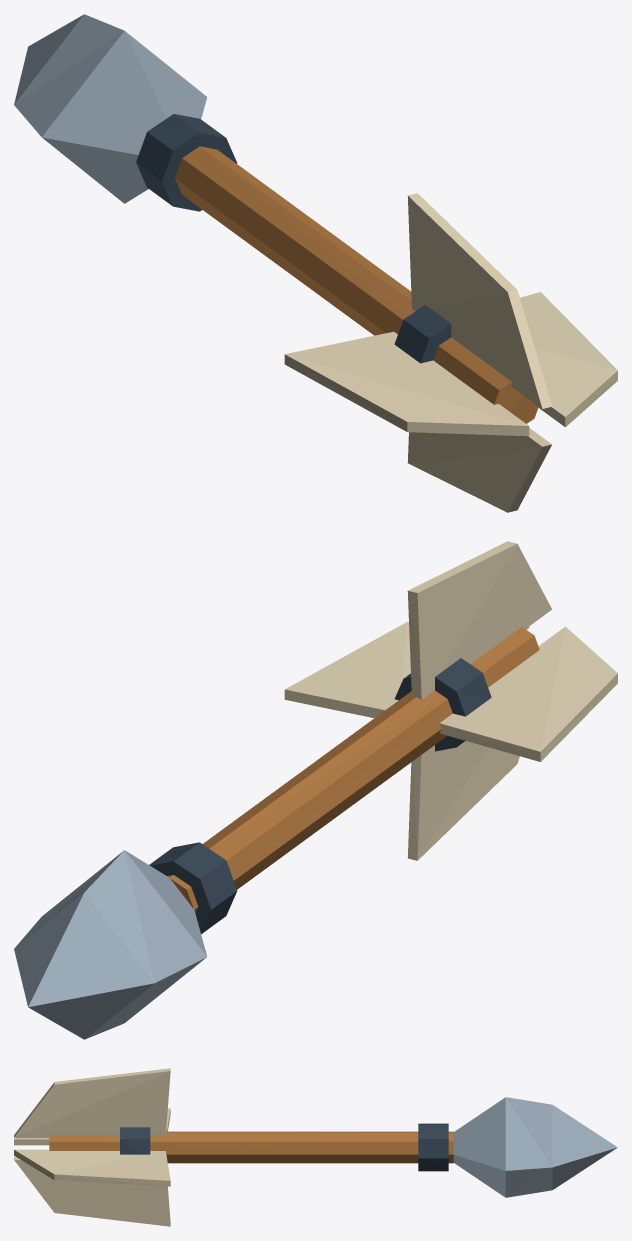
Rendered from projectile_arrow_v2.glb.
The picture shows the model from 3 angles, top to bottom: view 1: azimuth 30°, elevation 25°; view 2: azimuth 150°, elevation 25°; view 3: azimuth 270°, elevation 25°; orthographic projection. The views are drawn at different scales.
Visible parts, largest first — view 1: body; view 2: body; view 3: body.
Boxes of the visible parts, x1,y1,x2,y2 form: body: (14, 14, 617, 512); body: (14, 541, 617, 1039); body: (14, 1068, 617, 1226).
Size of the model in its own units: 0.34 by 0.34 by 1.19.
